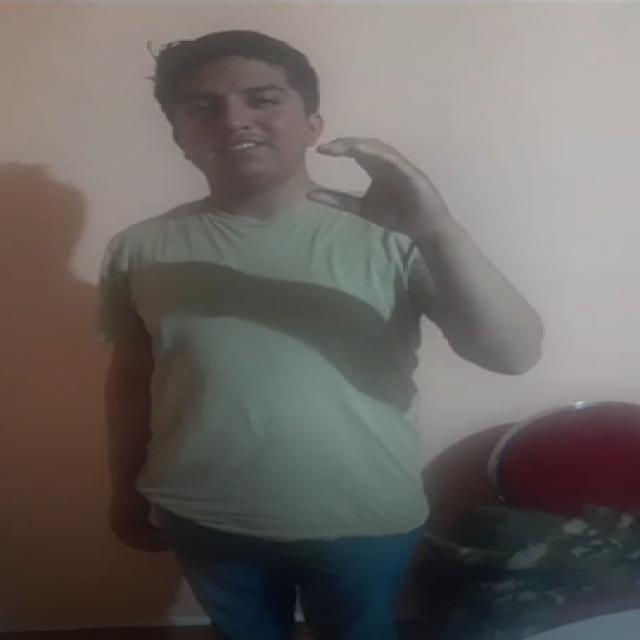C: (294, 127, 466, 256)
